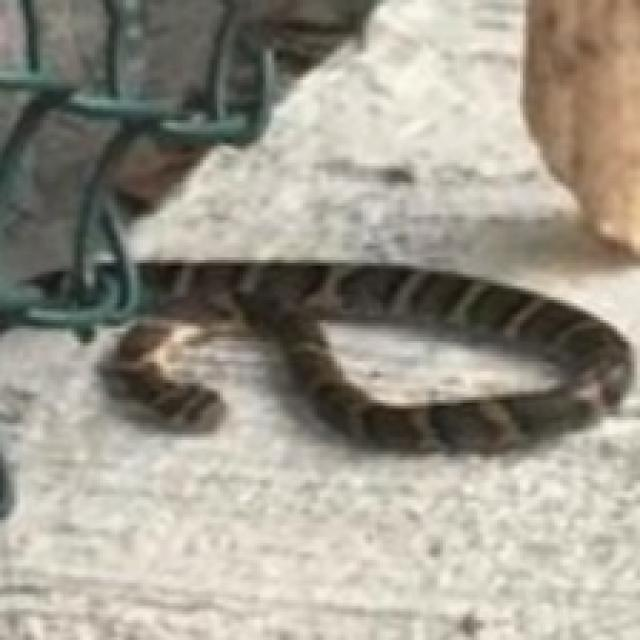king cobra: (143, 263, 631, 449), (97, 320, 214, 417)
